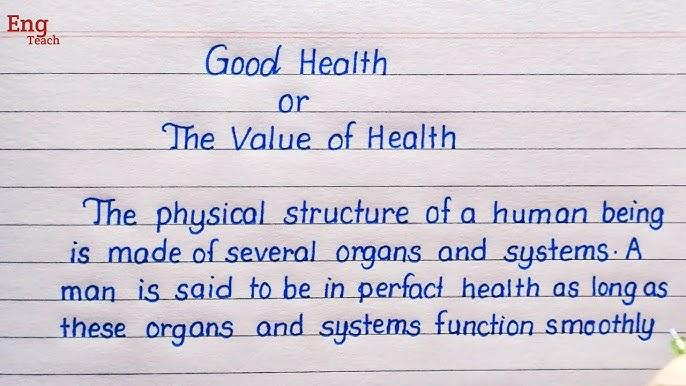text: (58, 305, 658, 349), (80, 194, 667, 237), (68, 235, 645, 273), (58, 271, 672, 306), (160, 119, 460, 154), (203, 41, 390, 80), (6, 13, 50, 39), (276, 92, 310, 115), (27, 34, 62, 47)
